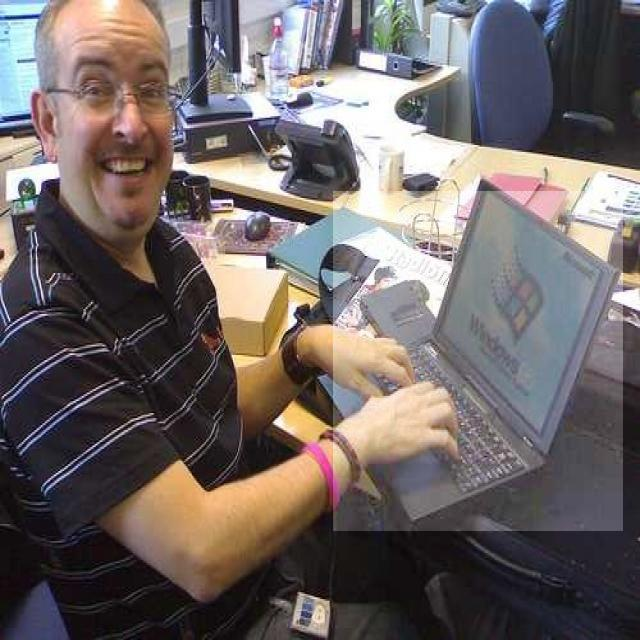-keyboard-: (333, 191, 623, 531)
